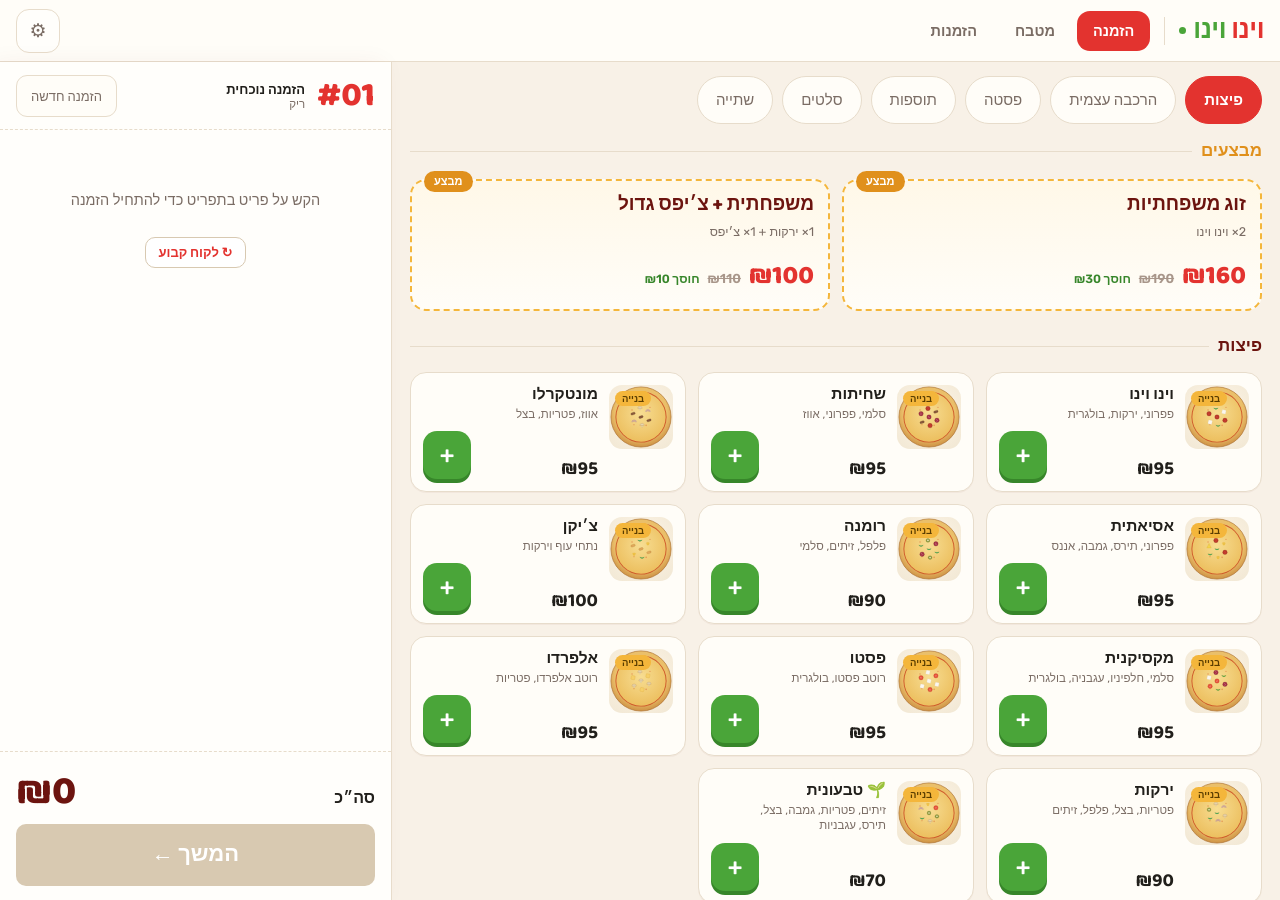
Test: build a salad › marking a salad ingredient "without" clears its extra (mutually exclusive)
The width and height of the screenshot is (1280, 900).
Click the button "סלטים" at (822,100), box [782,76,862,124]
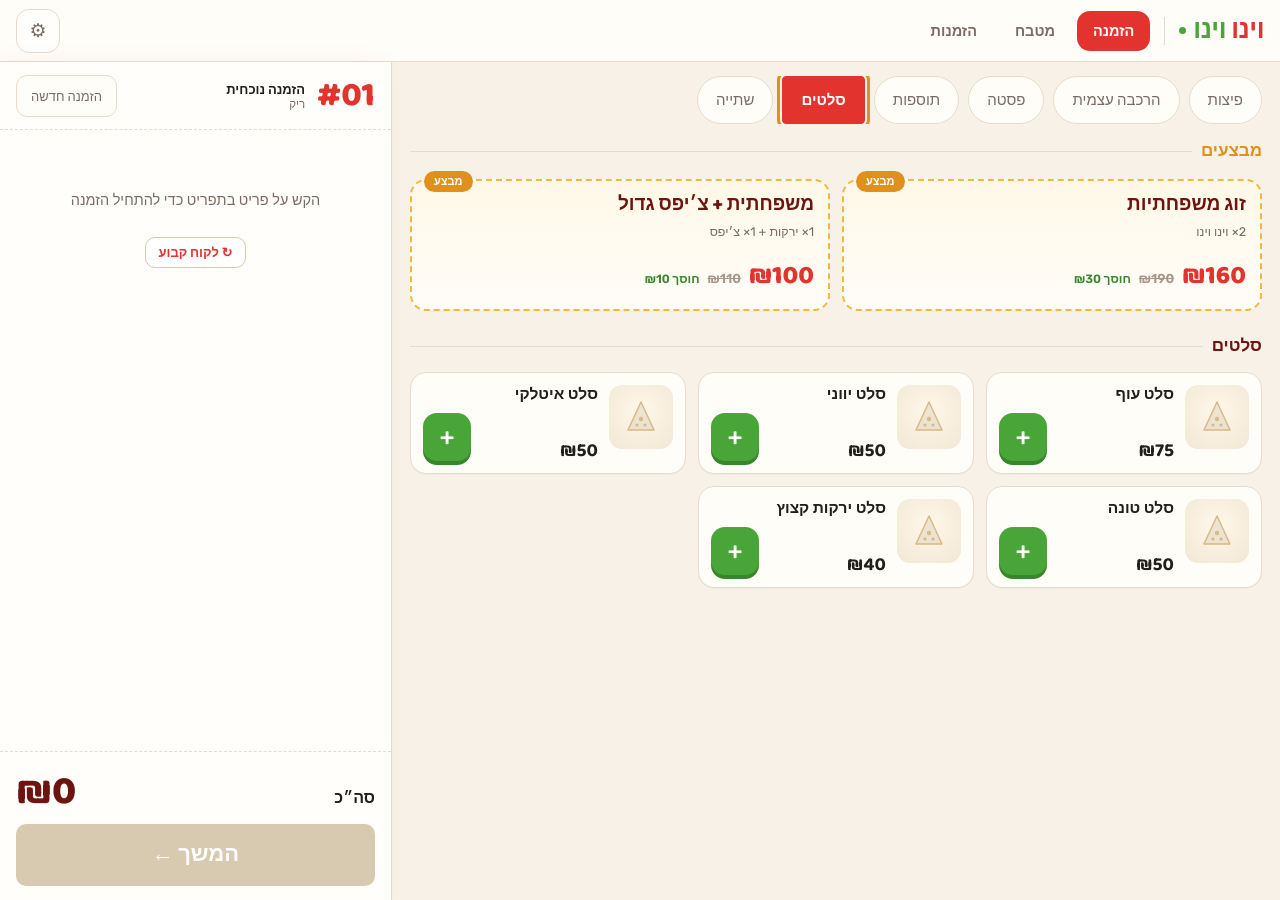
Click the button "סלט עוף ₪75 +" at (1217,417), box [986,372,1262,474]
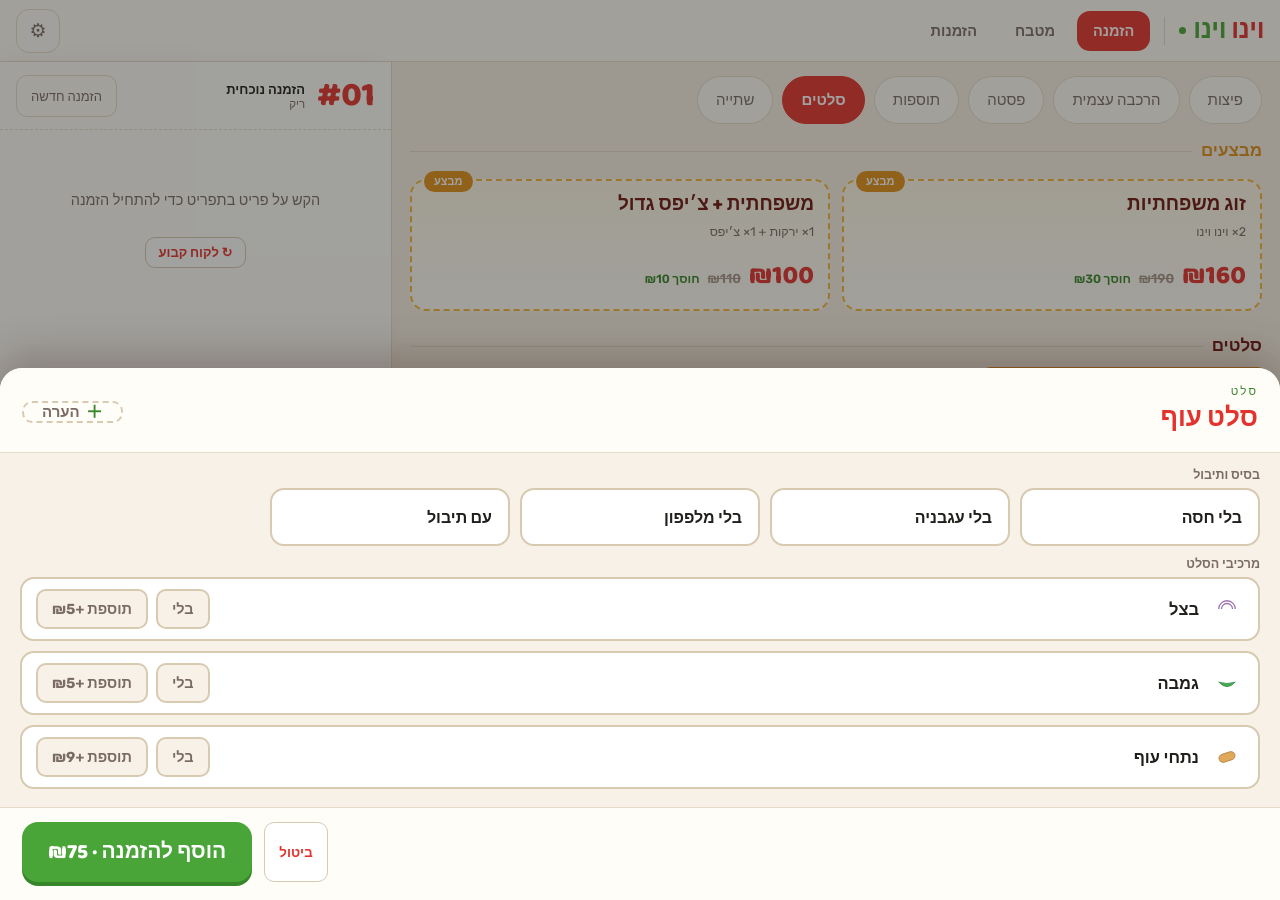
Click the button with aria-label "תוספת נתחי עוף" at (92,757), box [36,737,148,777]
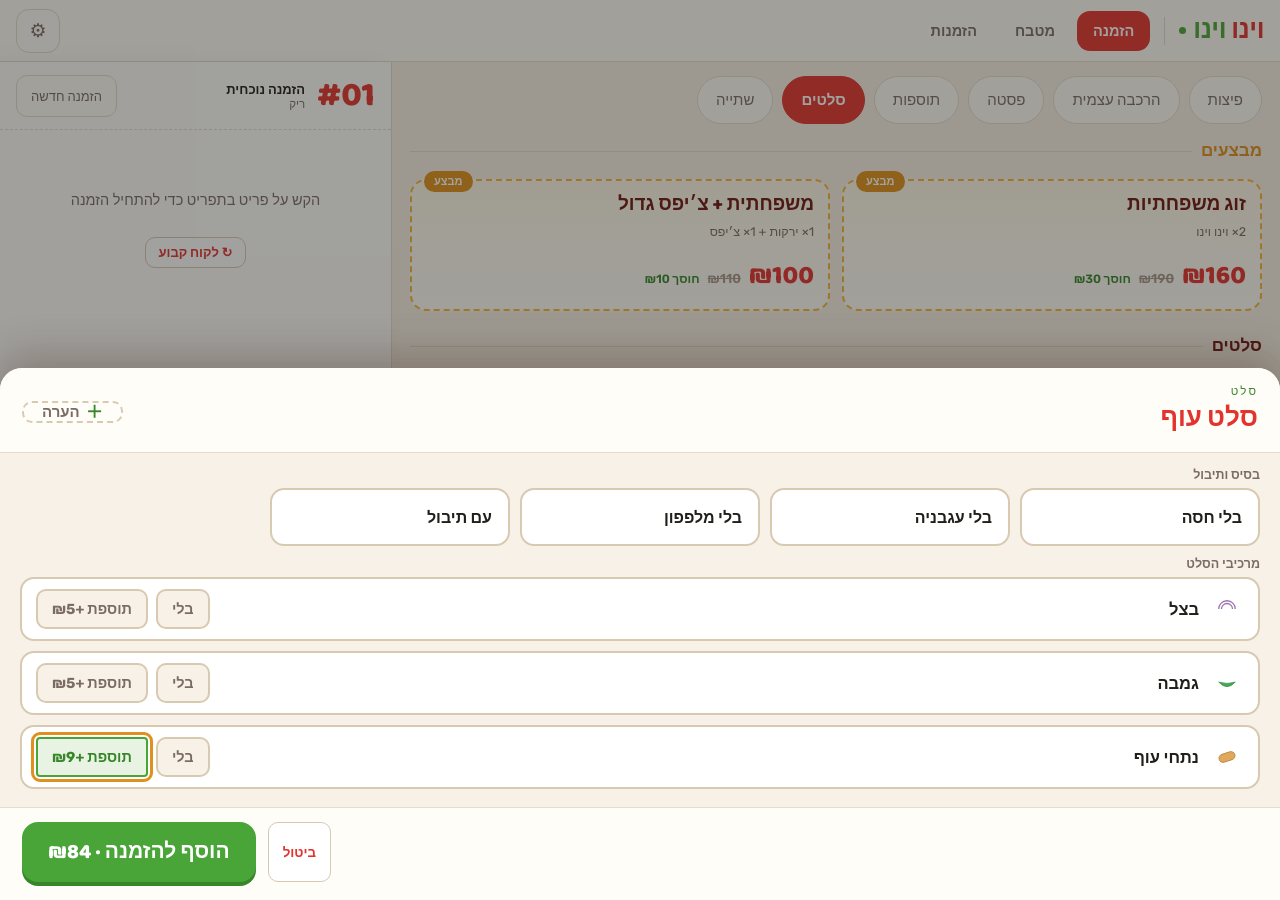
Expected: the button "הוסף להזמנה · ₪84" is shown, [22,822,256,882]
Click the button with aria-label "בלי נתחי עוף" at (183,757), box [156,737,210,777]
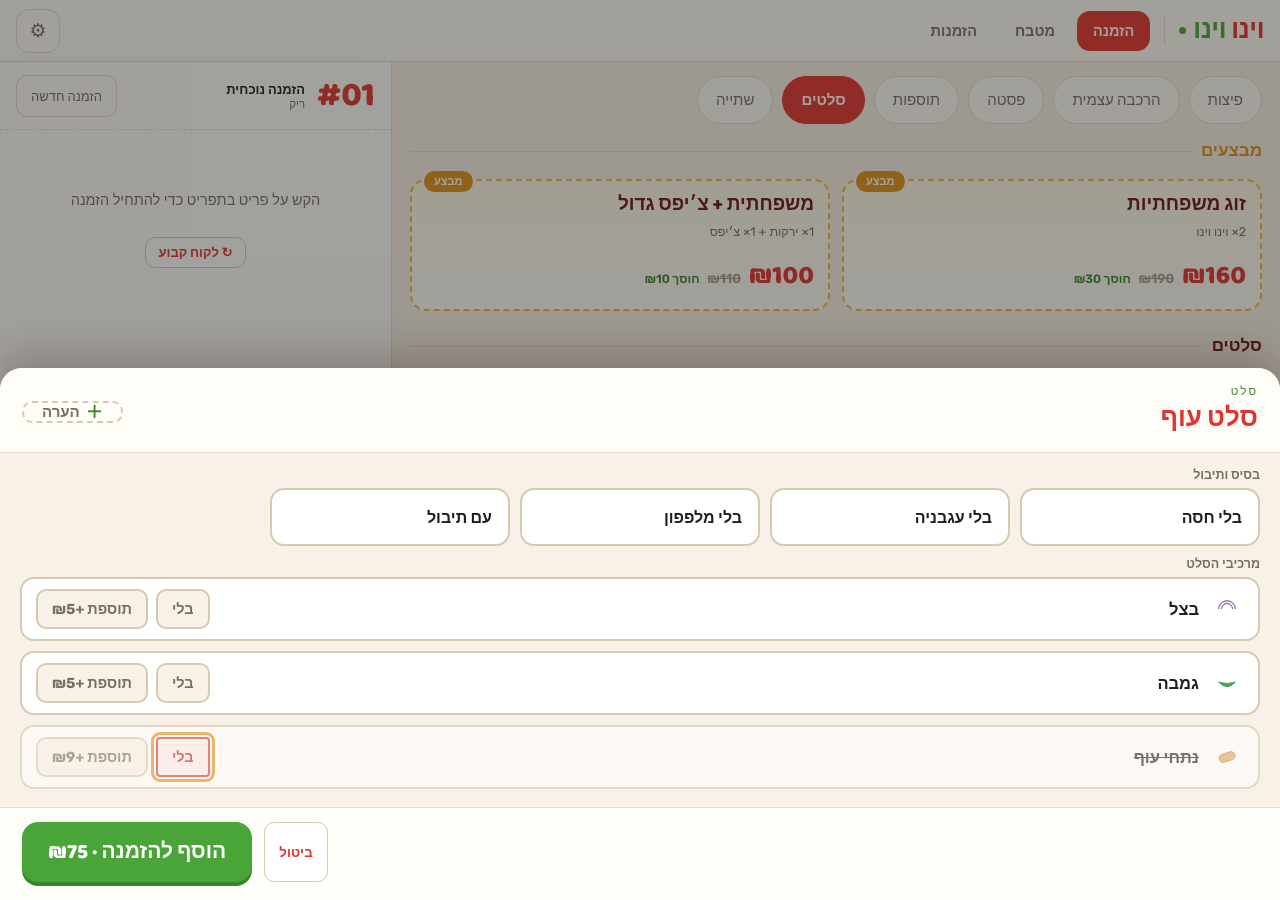
Expected: the button "הוסף להזמנה · ₪75" is shown, [22,822,252,882]
